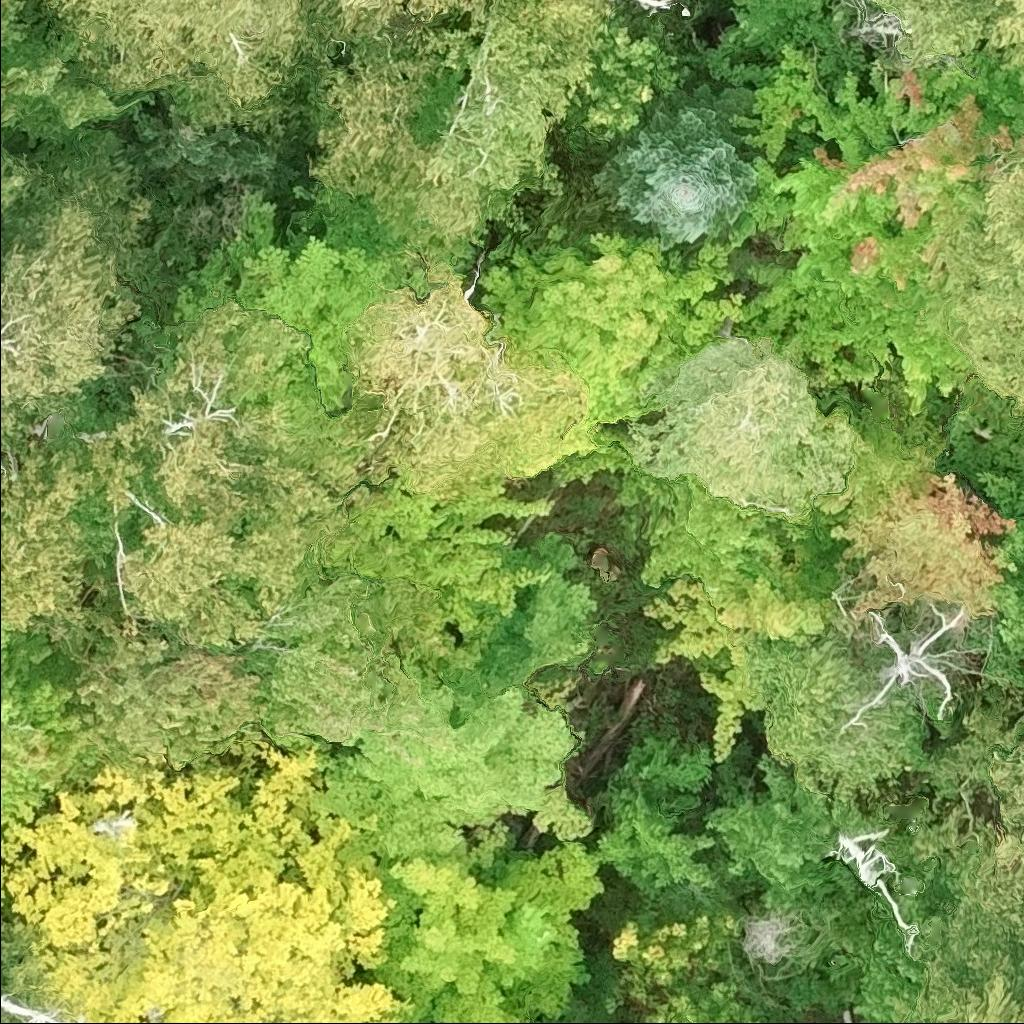crown: (0, 739, 416, 1023), (716, 46, 1023, 422), (308, 578, 595, 866), (297, 0, 614, 251), (87, 299, 381, 529), (341, 272, 598, 506), (191, 562, 465, 768), (303, 468, 585, 668), (478, 222, 747, 426), (354, 820, 607, 1023), (0, 127, 156, 450), (226, 184, 431, 415), (626, 325, 855, 526), (552, 421, 809, 600), (643, 555, 848, 765), (26, 0, 331, 135), (121, 500, 349, 649), (906, 705, 1023, 993), (750, 628, 936, 798), (590, 80, 756, 266), (75, 609, 270, 764), (0, 617, 132, 812), (851, 469, 1020, 619), (0, 442, 113, 644), (940, 157, 1023, 415), (879, 0, 1023, 133), (558, 5, 685, 144), (121, 106, 280, 205), (601, 908, 739, 1015), (705, 0, 866, 86), (0, 0, 57, 156), (326, 0, 487, 48), (910, 958, 1023, 1023), (0, 155, 32, 219), (995, 616, 1023, 654)
